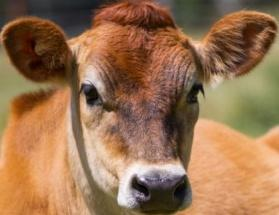muzzles: (117, 165, 195, 215)
